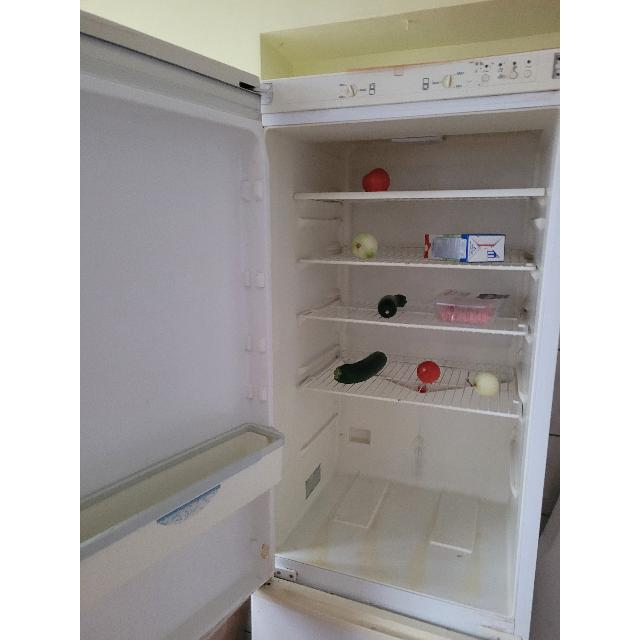meat: (439, 306, 495, 324)
milk: (428, 233, 508, 263)
onion: (351, 232, 379, 260), (468, 372, 498, 398)
tomato: (361, 168, 391, 192), (416, 360, 440, 384)
zucchini: (332, 351, 386, 383), (378, 296, 408, 320)
